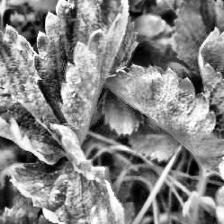Powdery Mildew Leaf: (32, 0, 130, 147), (103, 61, 224, 174), (8, 123, 127, 224), (0, 24, 66, 167)
